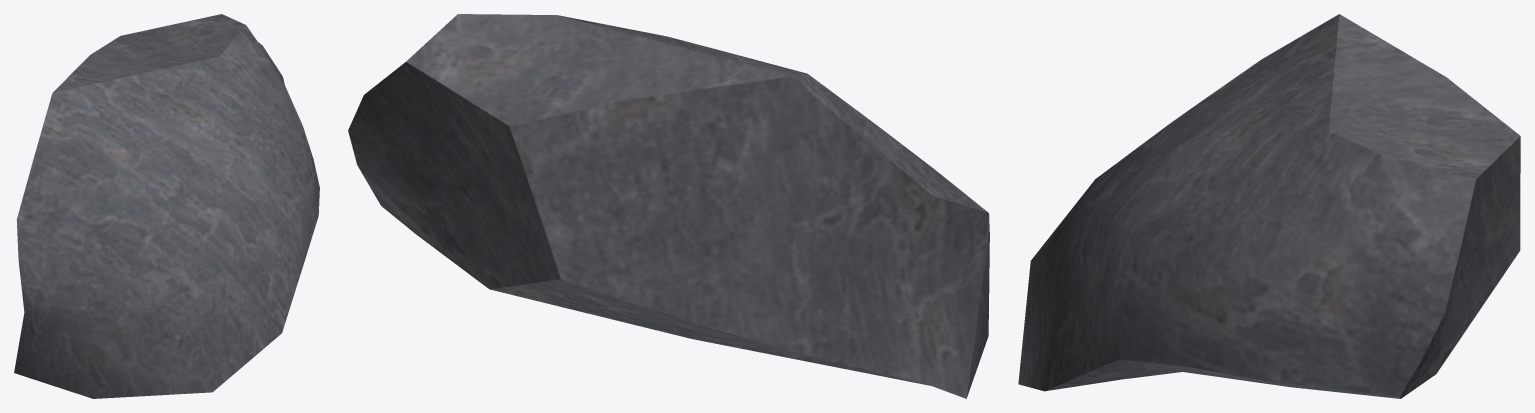
File: wrock439.glb
The picture shows the model from 3 angles, left to right: view 1: azimuth 30°, elevation 25°; view 2: azimuth 150°, elevation 25°; view 3: azimuth 270°, elevation 25°; orthographic projection. The views are drawn at different scales.
Parts seen in each view (by area): view 1: rock2_002_m_rocks_0; view 2: rock2_002_m_rocks_0; view 3: rock2_002_m_rocks_0.
Part boxes in pixels (<box>): rock2_002_m_rocks_0: <box>14,14,319,398</box>; rock2_002_m_rocks_0: <box>348,14,989,398</box>; rock2_002_m_rocks_0: <box>1018,14,1520,398</box>.
Size of the model in its own units: 0.2792 by 0.1778 by 0.2373.
Materials: 1 (1 with a texture image).
